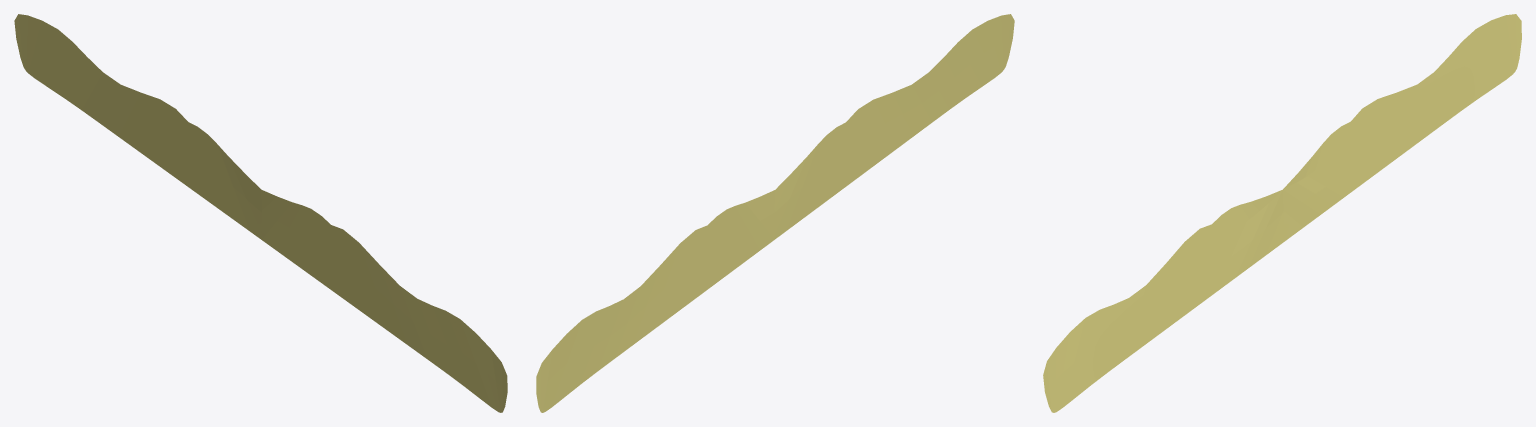
File: decierto 4.fbx
The picture shows the model from 3 angles, left to right: view 1: azimuth 30°, elevation 25°; view 2: azimuth 150°, elevation 25°; view 3: azimuth 330°, elevation 25°; orthographic projection.
Parts seen in each view (by area): view 1: Decierto 4; view 2: Decierto 4; view 3: Decierto 4.
Part boxes in pixels (<box>): Decierto 4: <box>14,14,507,412</box>; Decierto 4: <box>536,14,1014,412</box>; Decierto 4: <box>1043,14,1521,412</box>.
Size of the model in its own units: 23.96 by 202 by 2372.
